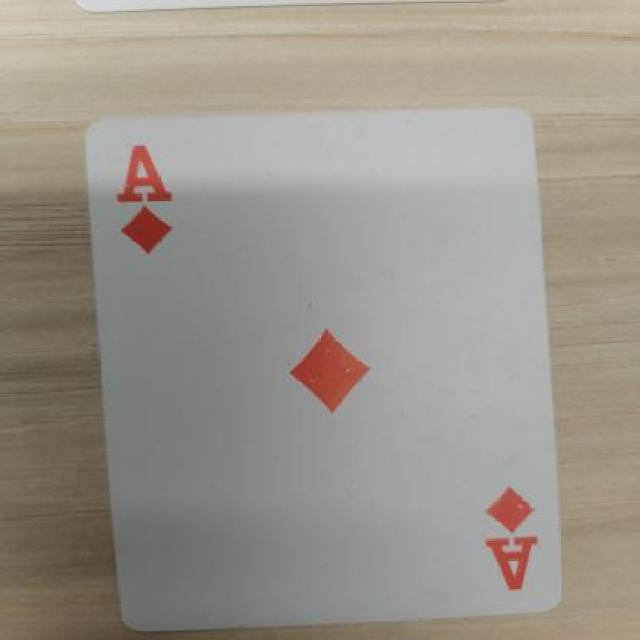AD: (457, 465, 572, 607), (99, 125, 192, 268)
